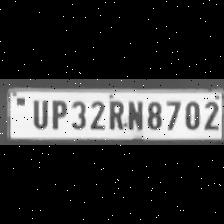0: (181, 99, 201, 131)
2: (200, 98, 222, 132), (86, 97, 106, 130)
3: (68, 98, 86, 130)
7: (164, 99, 181, 131)
8: (143, 99, 163, 131)
N: (125, 97, 143, 130)
P: (47, 98, 67, 130)
R: (105, 97, 124, 130)
U: (28, 97, 48, 128)
